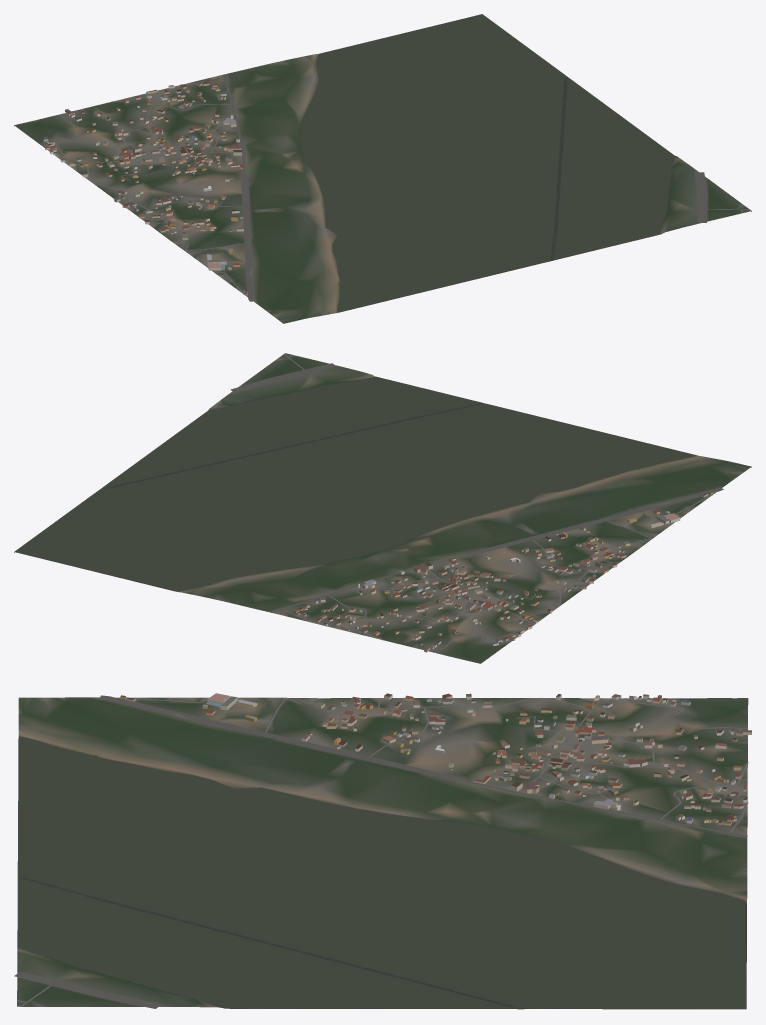
3 views of the same model, one above another, from view 1: azimuth 30°, elevation 25°; view 2: azimuth 150°, elevation 25°; view 3: azimuth 270°, elevation 25° (orthographic). The views are drawn at different scales.
Parts seen in each view (by area): view 1: water, ground, buildings, roads; view 2: water, ground, buildings, roads; view 3: water, ground, buildings, roads.
Boxes of the visible parts, left/top/right/bottom form: water: left=300, top=14, right=673, bottom=312; ground: left=14, top=14, right=751, bottom=323; buildings: left=43, top=81, right=247, bottom=295; roads: left=54, top=74, right=750, bottom=301; water: left=15, top=376, right=697, bottom=591; ground: left=14, top=353, right=751, bottom=663; buildings: left=294, top=491, right=713, bottom=652; roads: left=230, top=354, right=723, bottom=652; water: left=18, top=736, right=745, bottom=1008; ground: left=17, top=697, right=748, bottom=1009; buildings: left=120, top=693, right=751, bottom=825; roads: left=14, top=695, right=748, bottom=1008.
Bounding box in the file's own units: 1419 × 21.66 × 1418.
